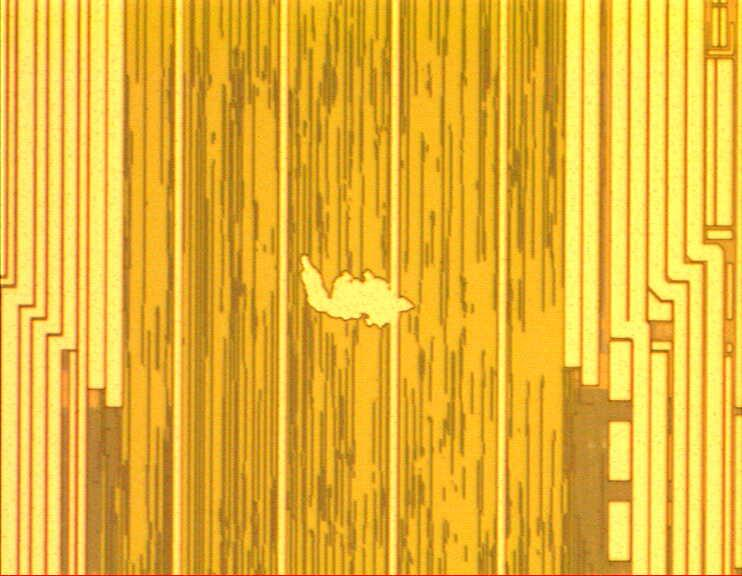BLOCK ETCH: (289, 249, 419, 332)
